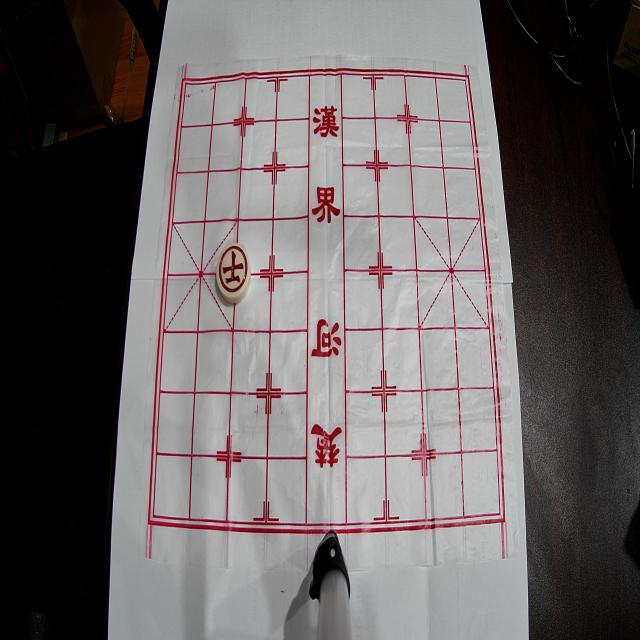red-guard: (216, 243, 251, 303)
